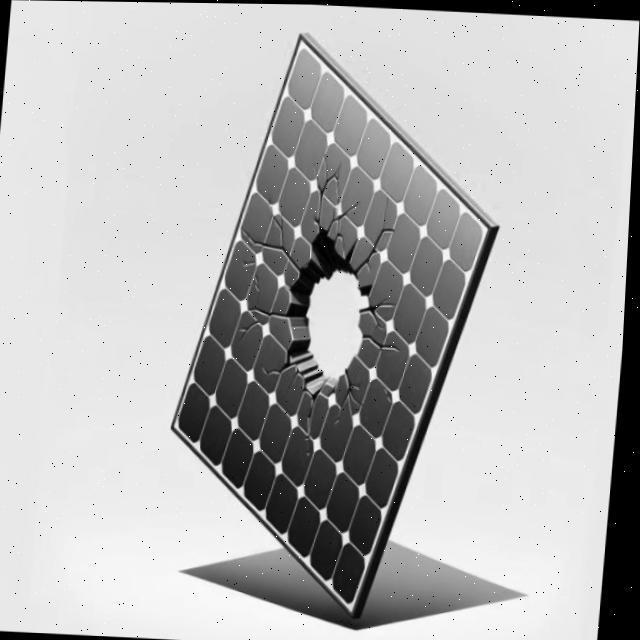Anomaly Solar Panel: (140, 38, 528, 609)
Structural Damage: (283, 222, 383, 395), (238, 192, 322, 284), (356, 196, 409, 278), (250, 271, 300, 320), (315, 149, 345, 229), (326, 191, 364, 249), (338, 366, 374, 426), (306, 382, 330, 451), (367, 289, 406, 328), (364, 327, 406, 356), (239, 316, 265, 339), (266, 359, 298, 375), (289, 367, 304, 394), (246, 256, 261, 266)
